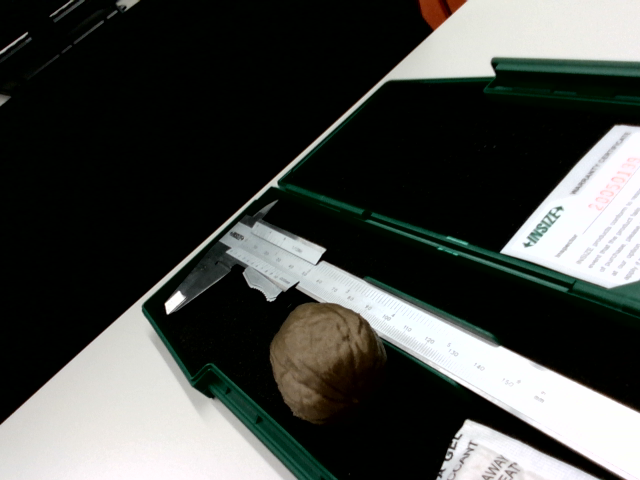walnut: (242, 279, 403, 439)
